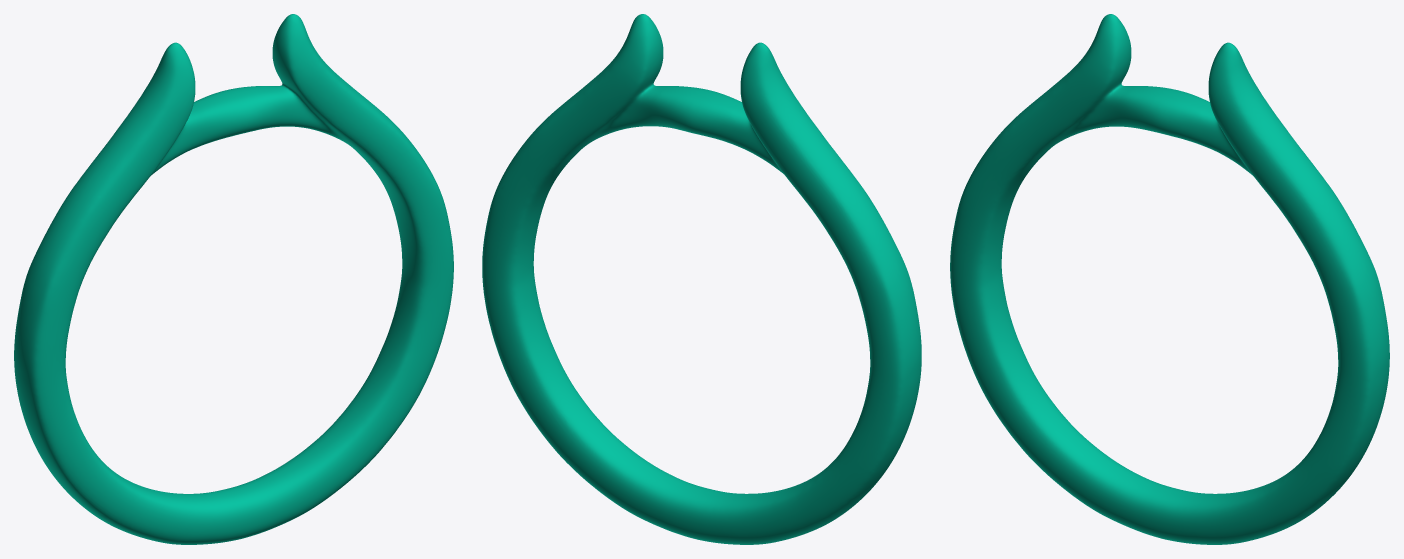
The model's file is Shank.glb.
3 renders of one model, left to right at view 1: azimuth 30°, elevation 25°; view 2: azimuth 150°, elevation 25°; view 3: azimuth 330°, elevation 25°, orthographic.
Visible parts, largest first — view 1: /Shank 1 bezel.3dm; view 2: /Shank 1 bezel.3dm; view 3: /Shank 1 bezel.3dm.
Boxes of the visible parts, box(x1,y1,x2,y2) form: /Shank 1 bezel.3dm: box(14, 14, 453, 544); /Shank 1 bezel.3dm: box(482, 14, 921, 544); /Shank 1 bezel.3dm: box(950, 14, 1389, 544).
Bounding box in the file's own units: 20.86 × 23.73 × 2.27.
